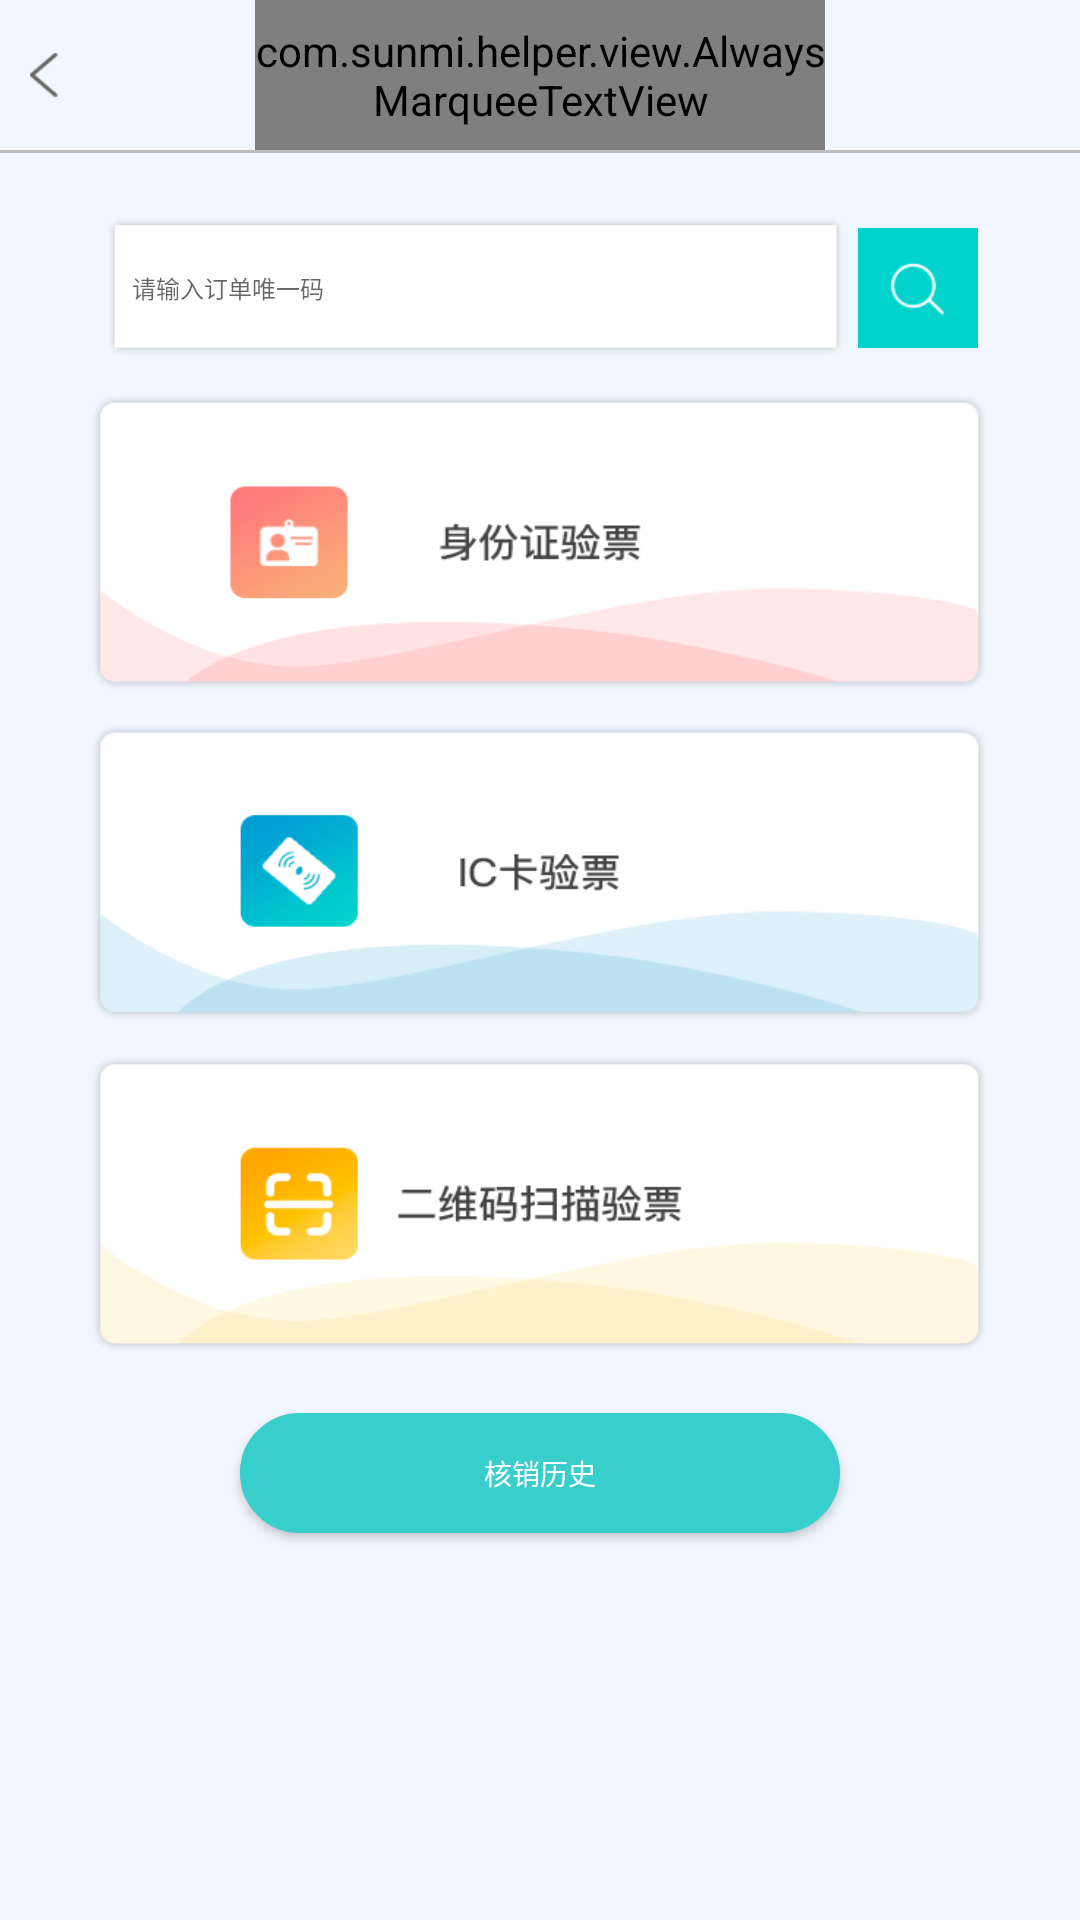

Where to tap for icons on this 1080w x 1920h app screen, as [x,y]:
prosale back: [44,75]
